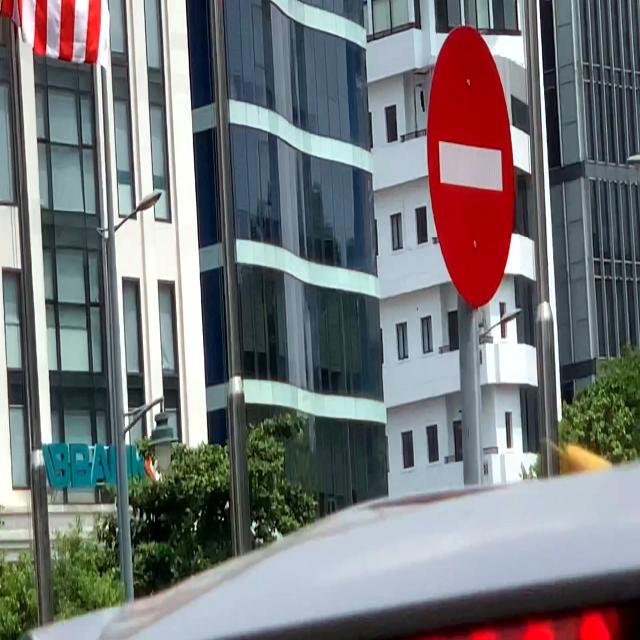P.102: (421, 19, 518, 319)
